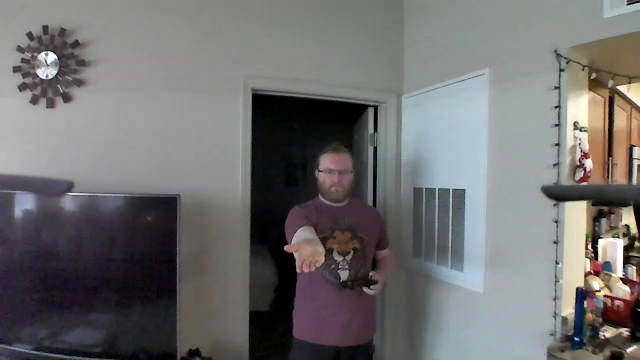land: (280, 239, 329, 275)
